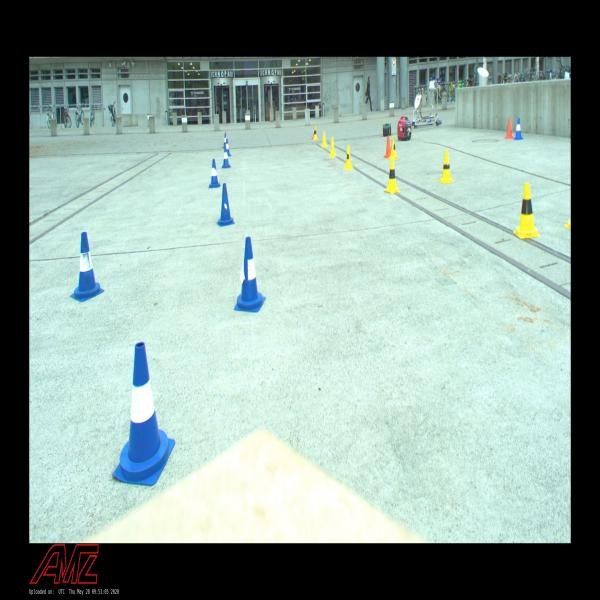blue_cone: (113, 342, 176, 487), (69, 232, 104, 302), (234, 238, 264, 312), (216, 182, 235, 226), (208, 160, 219, 188), (514, 117, 523, 140), (221, 147, 230, 168), (224, 139, 231, 156), (223, 134, 229, 148)
orange_cone: (505, 117, 514, 138), (384, 135, 392, 158), (223, 131, 229, 145), (312, 125, 317, 139)
yellow_cone: (514, 183, 542, 240), (438, 150, 455, 184), (384, 160, 399, 194), (384, 162, 399, 194), (343, 144, 354, 170), (389, 136, 398, 160), (329, 137, 338, 157), (321, 130, 328, 148), (313, 126, 318, 140)
